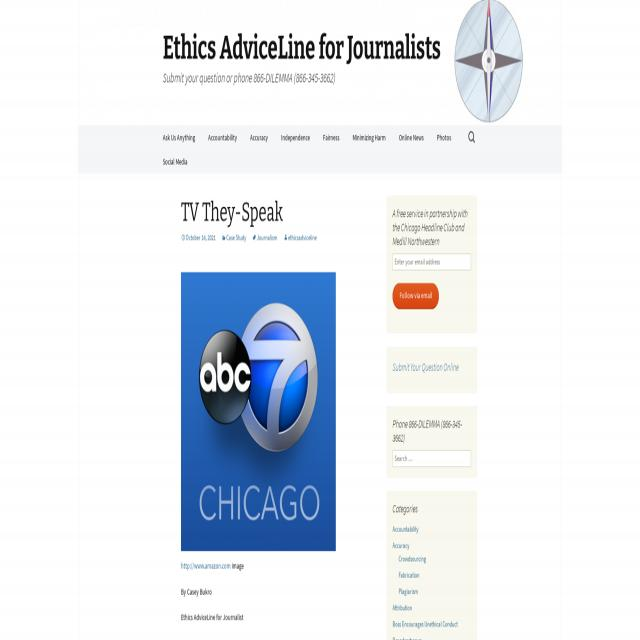button: (158, 0, 525, 123), (181, 272, 335, 552), (393, 283, 439, 309), (346, 125, 392, 150), (157, 126, 201, 150), (202, 125, 244, 150), (275, 125, 316, 150), (392, 125, 430, 150), (157, 149, 193, 174), (244, 125, 274, 150), (317, 125, 345, 150), (431, 125, 457, 150), (467, 128, 477, 148)
field: (393, 253, 471, 270), (393, 450, 471, 466)
